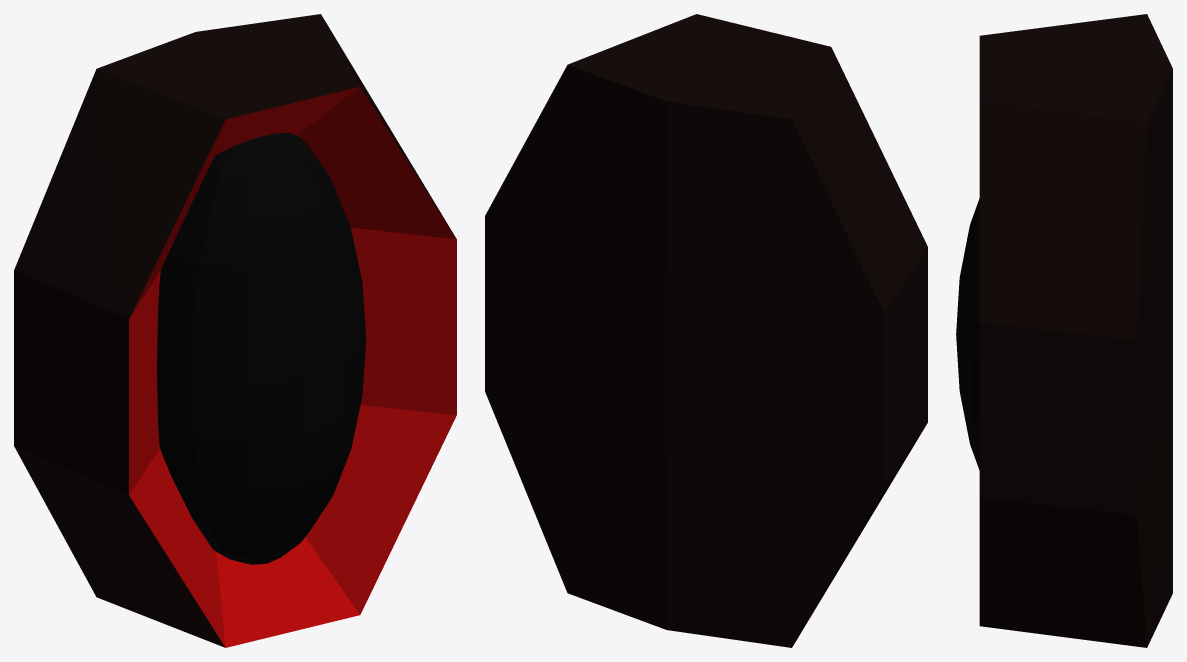
The model's file is Watcher.fbx.
3 views of the same model, side by side, from view 1: azimuth 30°, elevation 25°; view 2: azimuth 150°, elevation 25°; view 3: azimuth 270°, elevation 25° (orthographic).
Parts seen in each view (by area): view 1: Watcher; view 2: Watcher; view 3: Watcher.
Boxes of the visible parts, left/top/right/bottom form: Watcher: left=14, top=14, right=456, bottom=647; Watcher: left=485, top=14, right=927, bottom=647; Watcher: left=956, top=14, right=1172, bottom=647.
Size of the model in its own units: 178 by 225 by 84.18.
